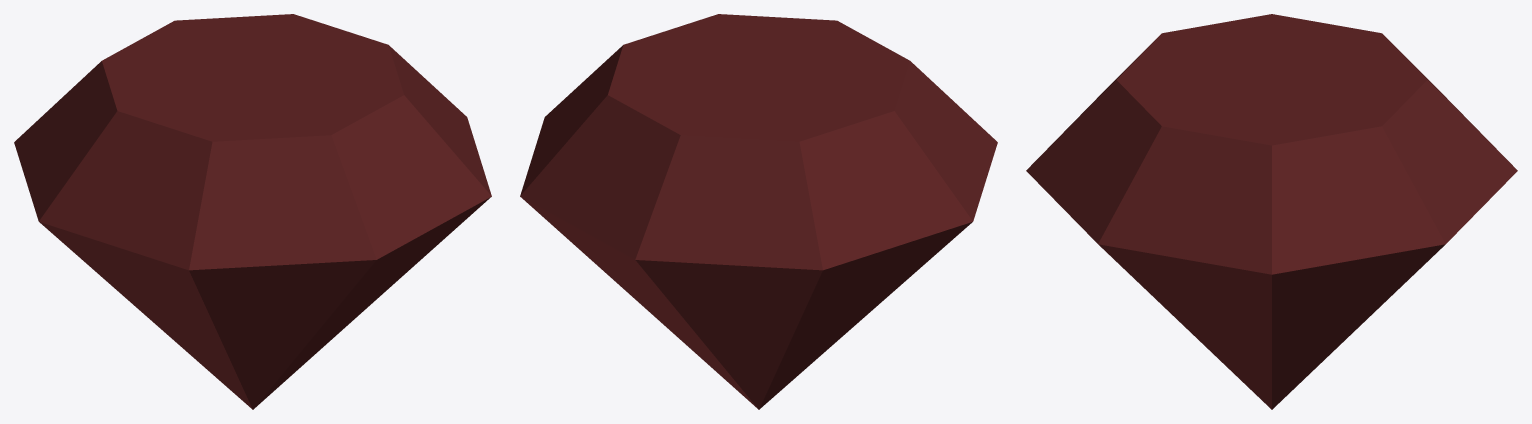
File: Crystal.fbx
3 renders of one model, left to right at view 1: azimuth 30°, elevation 25°; view 2: azimuth 150°, elevation 25°; view 3: azimuth 270°, elevation 25°, orthographic.
Parts seen in each view (by area): view 1: pCone1; view 2: pCone1; view 3: pCone1.
Boxes of the visible parts, box(x1,y1,x2,y2) form: pCone1: box(14, 14, 491, 409); pCone1: box(520, 14, 997, 409); pCone1: box(1026, 14, 1517, 409).
Bounding box in the file's own units: 0.6519 × 0.4828 × 0.6519.
